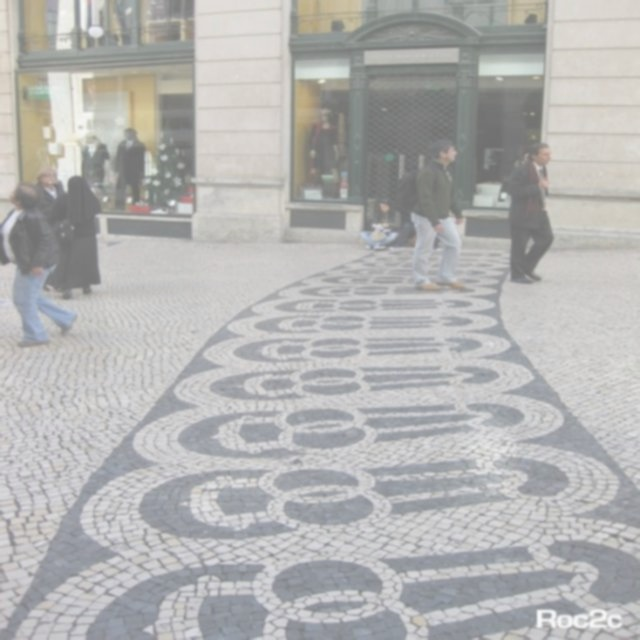pessoa: (0, 178, 79, 350), (387, 136, 469, 295), (503, 140, 557, 285), (46, 174, 104, 301), (304, 106, 344, 192), (110, 125, 149, 206), (356, 196, 404, 252), (80, 127, 112, 204), (32, 166, 68, 212), (389, 218, 419, 251)
